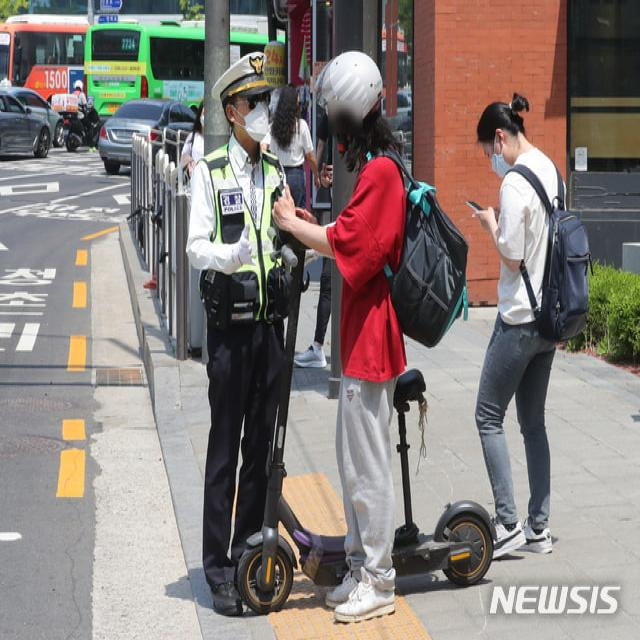helmet: (229, 52, 501, 629)
